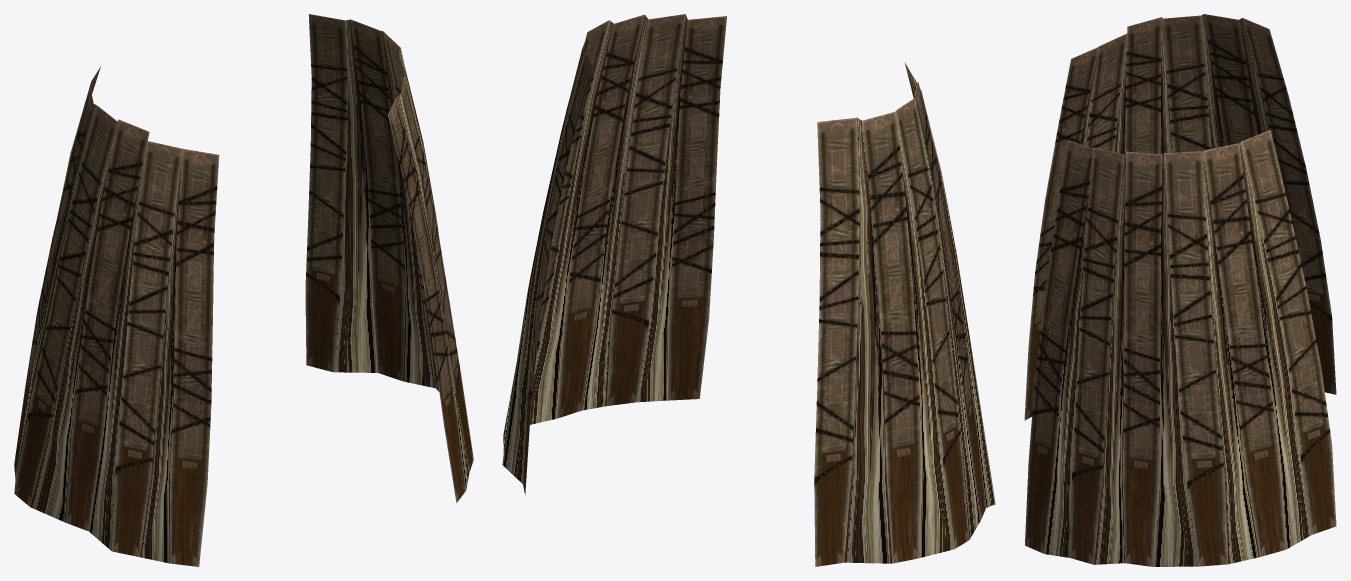
File: clo_dunland_caerdh_chainmail_heavy_f.fbx
3 views of the same model, side by side, from view 1: azimuth 30°, elevation 25°; view 2: azimuth 150°, elevation 25°; view 3: azimuth 270°, elevation 25° (orthographic). The views are drawn at different scales.
Parts seen in each view (by area): view 1: clo_dunland_caerdh_chainmail_heavy_f; view 2: clo_dunland_caerdh_chainmail_heavy_f; view 3: clo_dunland_caerdh_chainmail_heavy_f.
Part boxes in pixels (x1,y1,x2,y2): clo_dunland_caerdh_chainmail_heavy_f: [14, 14, 473, 566]; clo_dunland_caerdh_chainmail_heavy_f: [502, 14, 995, 566]; clo_dunland_caerdh_chainmail_heavy_f: [1024, 14, 1336, 566].
Bounding box in the file's own units: 0.5687 × 0.3665 × 0.5239.
Materials: 1 (1 with a texture image).
